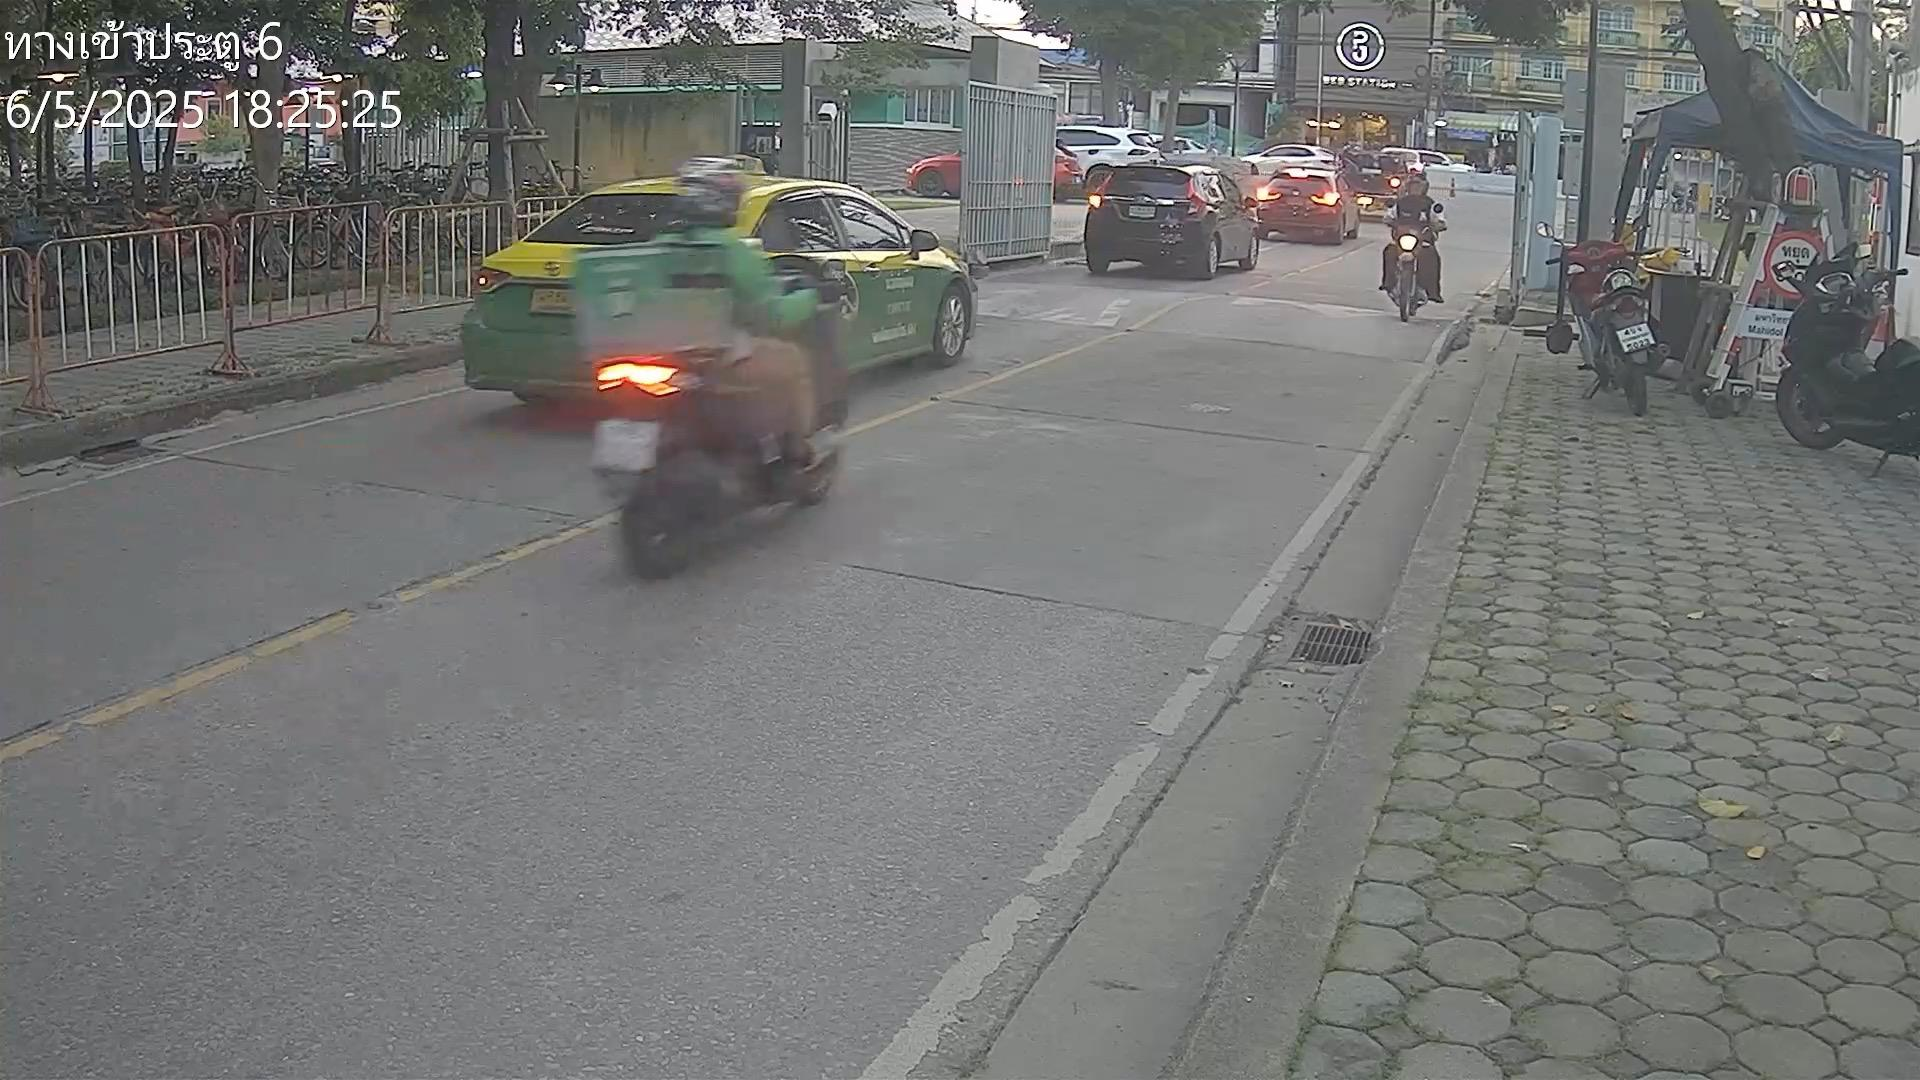With-Helmet: (673, 150, 745, 229), (1400, 167, 1432, 199)
